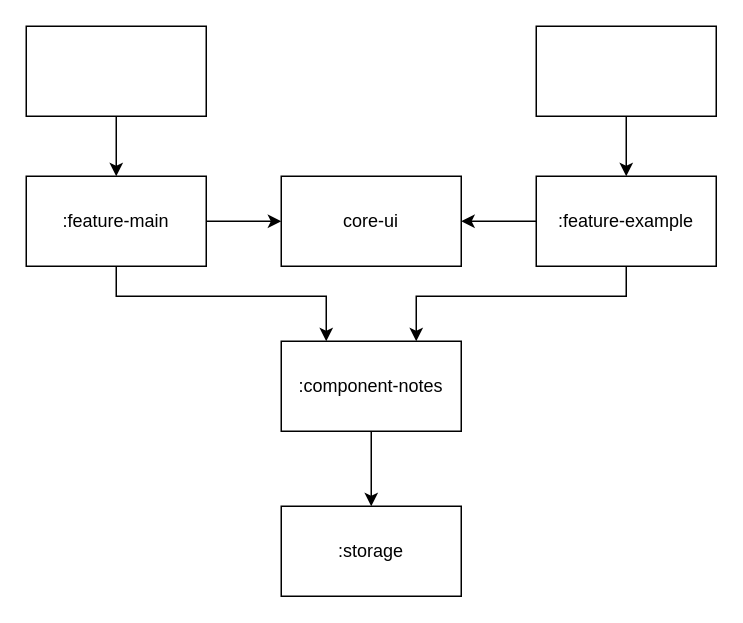
Some shapes in this 743 by 623 pixel diagram are drawn without their labels. Here are the shapes that lost their labels. From the top down, the box of each, then its label:
(25, 25, 206, 116): :app
(535, 25, 716, 116): :app-example
